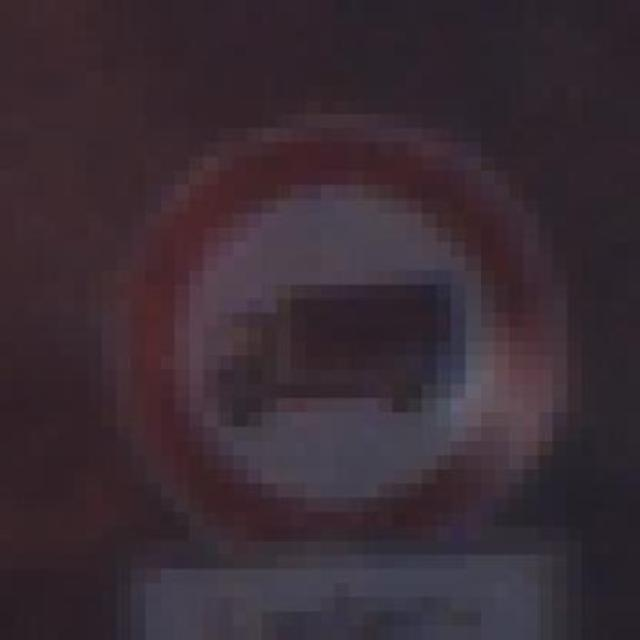Truck traffic is prohibited: (72, 99, 597, 541)
